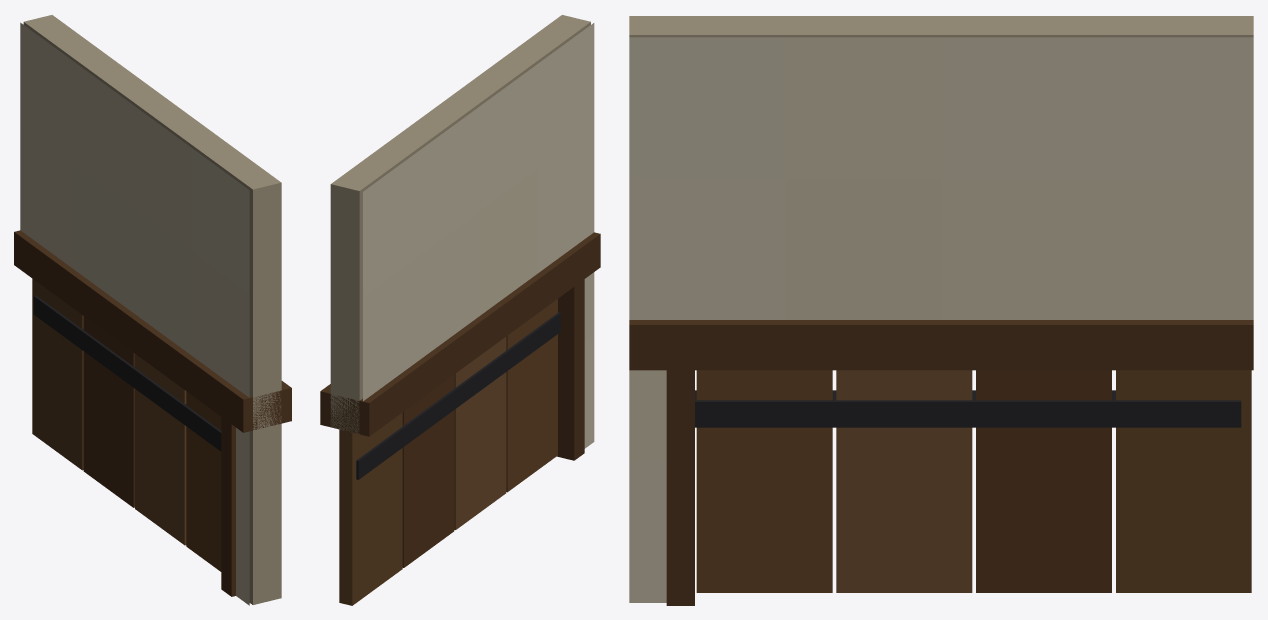
File: wall-plaster-door-shut-high-r.glb
The picture shows the model from 3 angles, left to right: view 1: azimuth 30°, elevation 25°; view 2: azimuth 150°, elevation 25°; view 3: azimuth 270°, elevation 25°; orthographic projection. The views are drawn at different scales.
Parts seen in each view (by area): view 1: wall-plaster-door-shut-high-r; view 2: wall-plaster-door-shut-high-r; view 3: wall-plaster-door-shut-high-r.
Boxes of the visible parts, x1,y1,x2,y2 form: wall-plaster-door-shut-high-r: [14, 15, 291, 605]; wall-plaster-door-shut-high-r: [320, 15, 600, 605]; wall-plaster-door-shut-high-r: [629, 16, 1253, 605].
Bounding box in the file's own units: 0.122 × 1 × 1.
